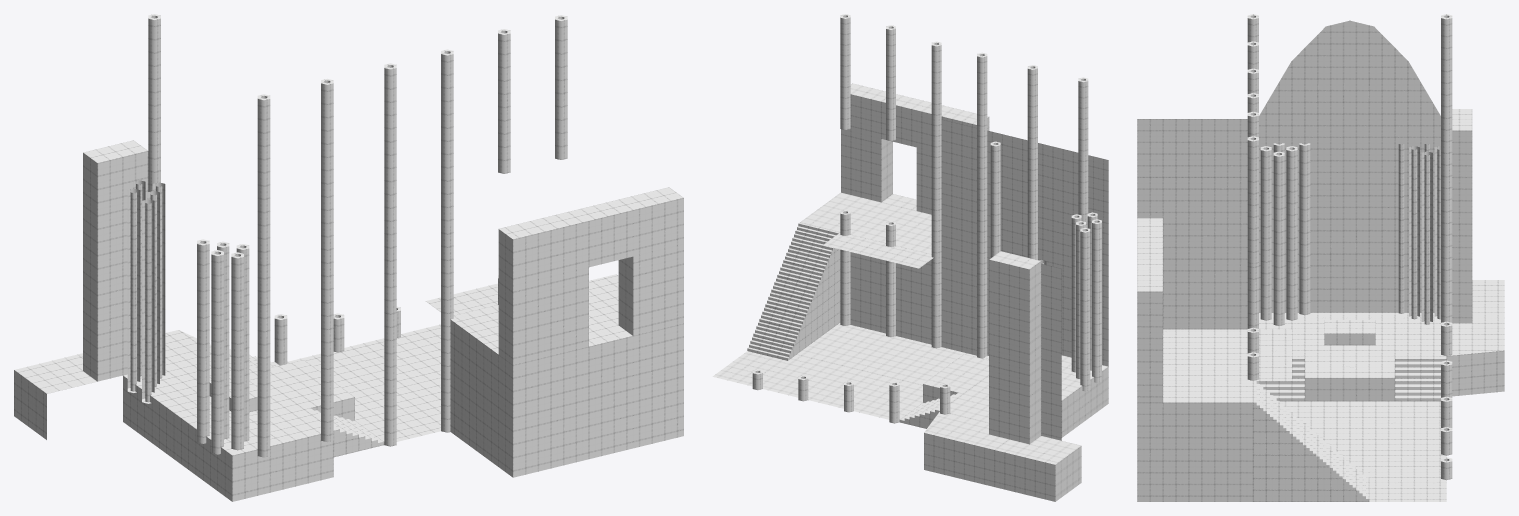
File: Chapel.gltf
The picture shows the model from 3 angles, left to right: view 1: azimuth 30°, elevation 25°; view 2: azimuth 150°, elevation 25°; view 3: azimuth 270°, elevation 25°; orthographic projection. The views are drawn at different scales.
Visible parts, largest first — view 1: Ground (1); view 2: Ground (1); view 3: Ground (1).
Boxes of the visible parts, bbox=[...] form: Ground (1): bbox=[14, 14, 683, 501]; Ground (1): bbox=[712, 14, 1108, 501]; Ground (1): bbox=[1137, 14, 1504, 501].
Bounding box in the file's own units: 36.5 × 30.5 × 28.5.
Materials: 1 (1 with a texture image).
